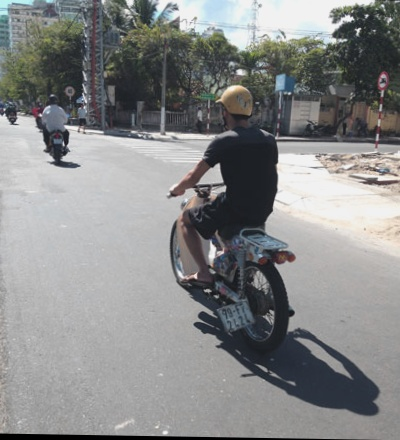Bien-so: (209, 305, 249, 341), (46, 154, 58, 164)
